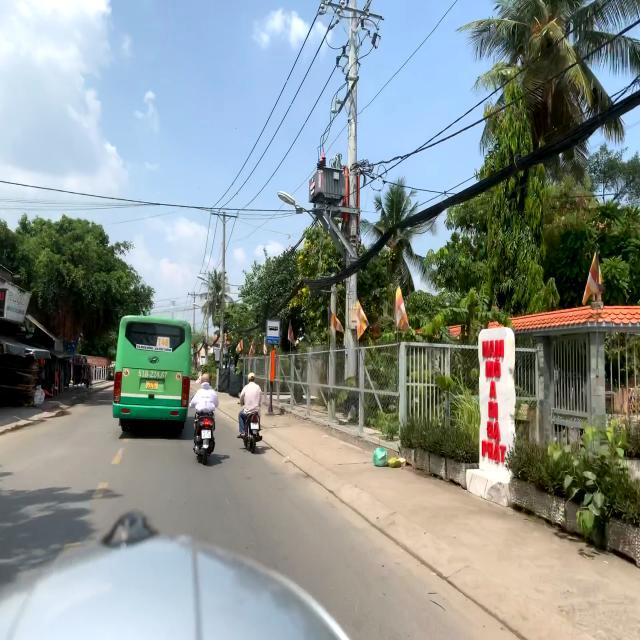Ben xe buyt: (266, 320, 280, 344)
